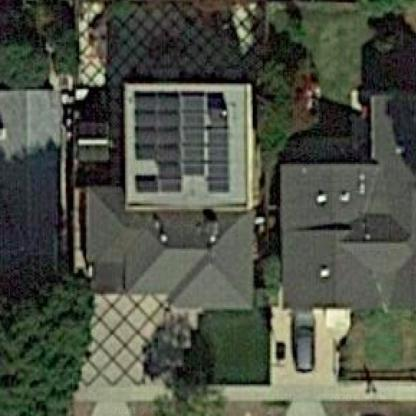car: (286, 302, 319, 378)
solar_panel: (130, 91, 238, 208)
